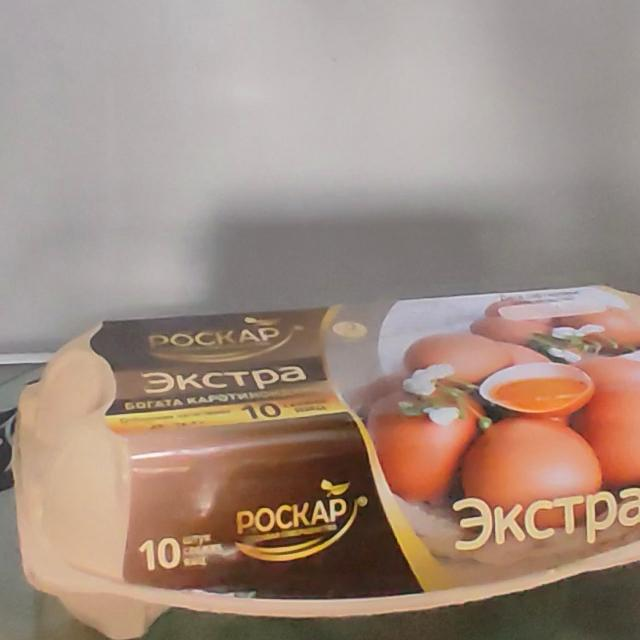egg: (0, 269, 640, 640)
